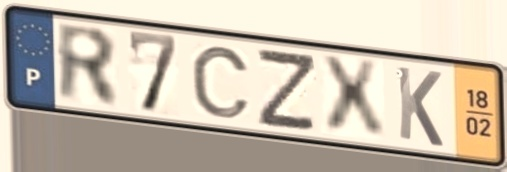7: (125, 27, 181, 117)
C: (188, 43, 254, 121)
K: (393, 62, 446, 151)
R: (53, 19, 123, 111)
X: (316, 54, 390, 143)
Z: (254, 48, 319, 135)
